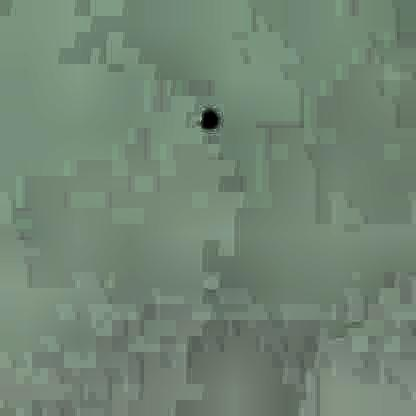golfball: (198, 104, 216, 123)
